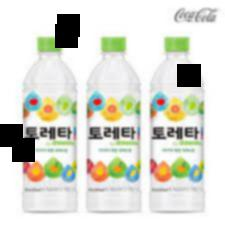toreta: (19, 31, 81, 216), (85, 31, 144, 216), (150, 30, 208, 216)
